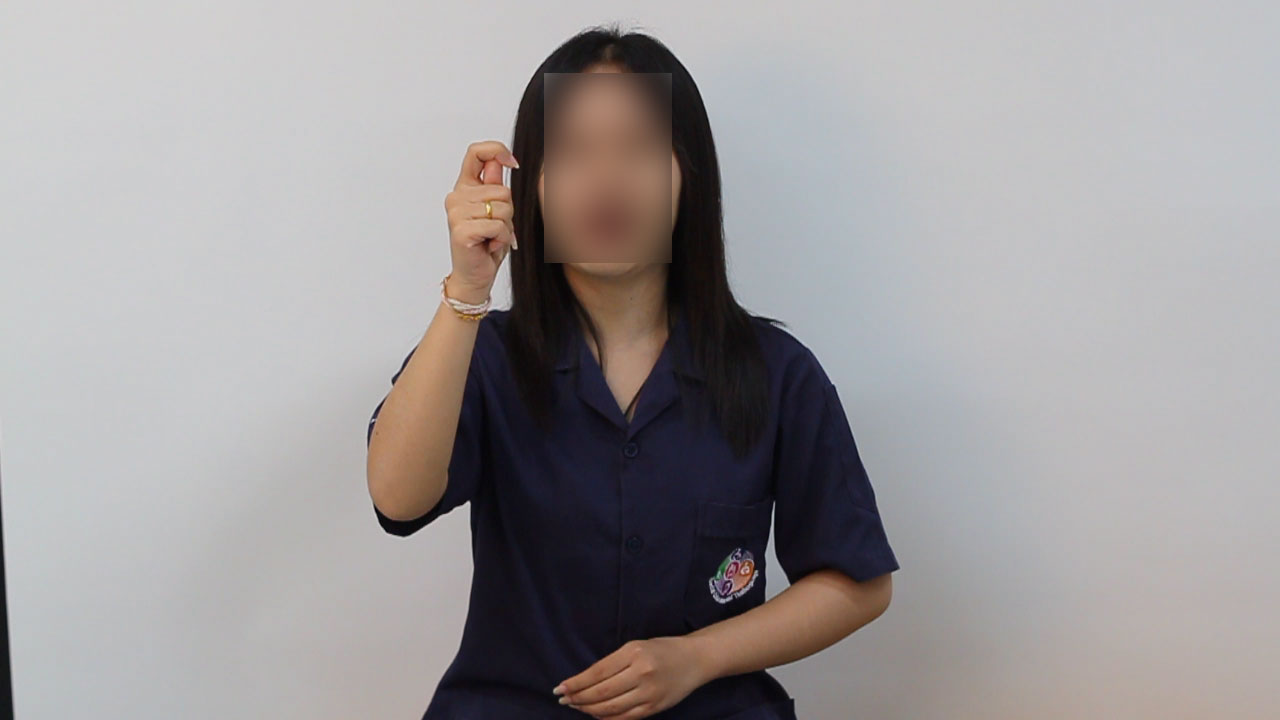or: (437, 134, 529, 300)
